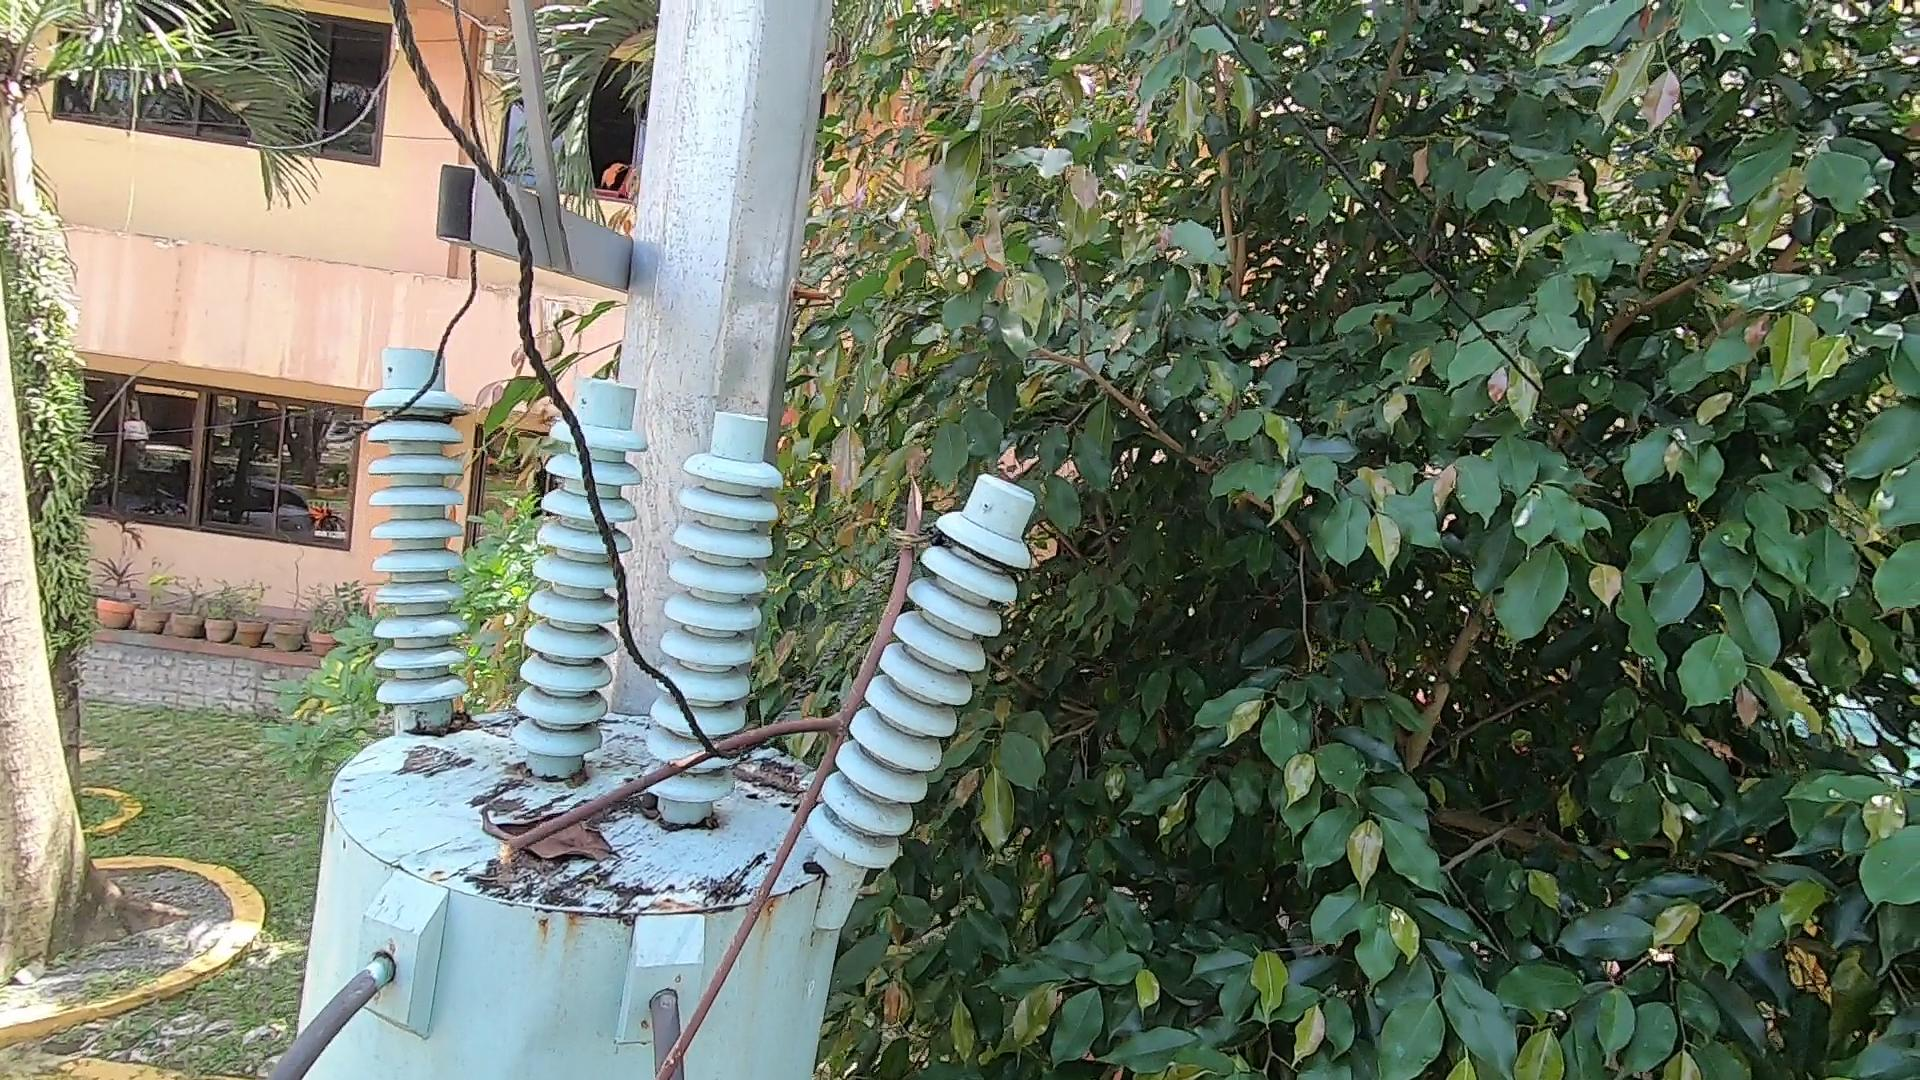leaf: (498, 810, 620, 884)
tree branch: (483, 458, 940, 1071)
